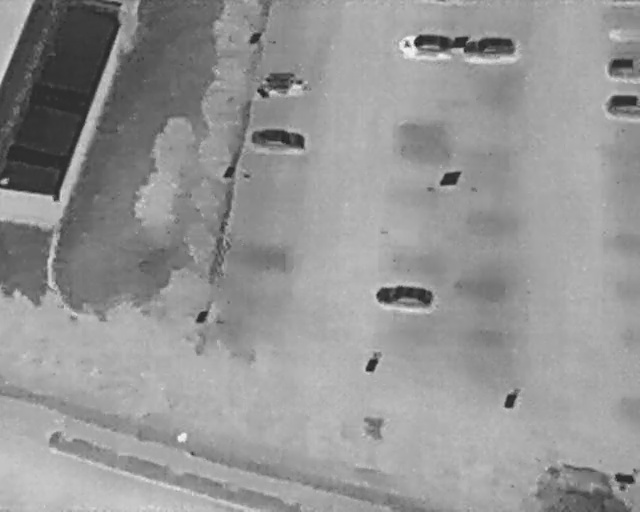Car: (532, 463, 632, 512), (257, 70, 312, 100), (396, 33, 453, 59), (376, 284, 433, 310), (251, 127, 305, 154), (464, 36, 517, 61), (604, 94, 640, 120), (607, 56, 640, 79)
